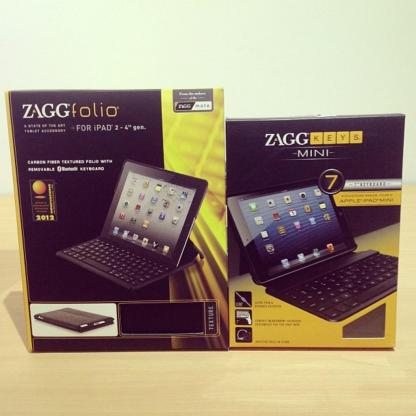board: (228, 180, 398, 322), (52, 160, 208, 291)
